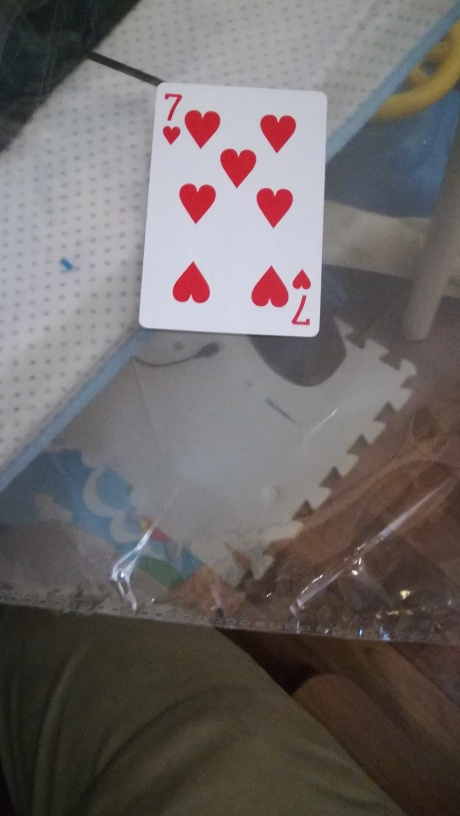hx 7: (137, 82, 328, 339)
